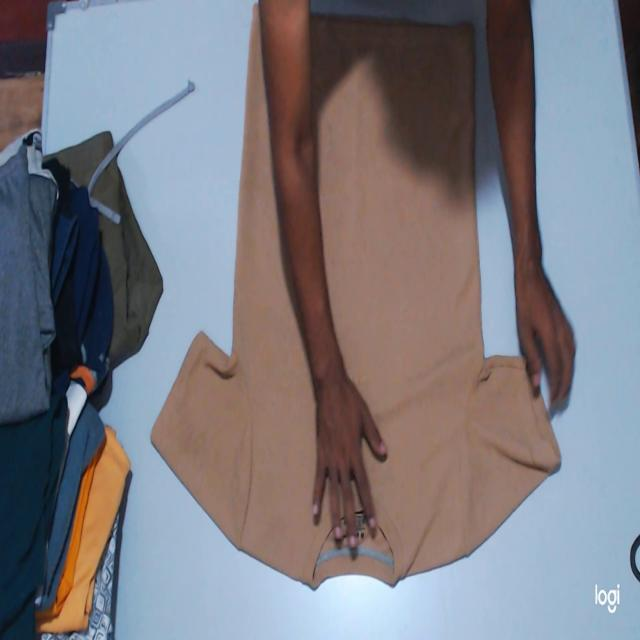new-garment: (152, 10, 560, 585)
